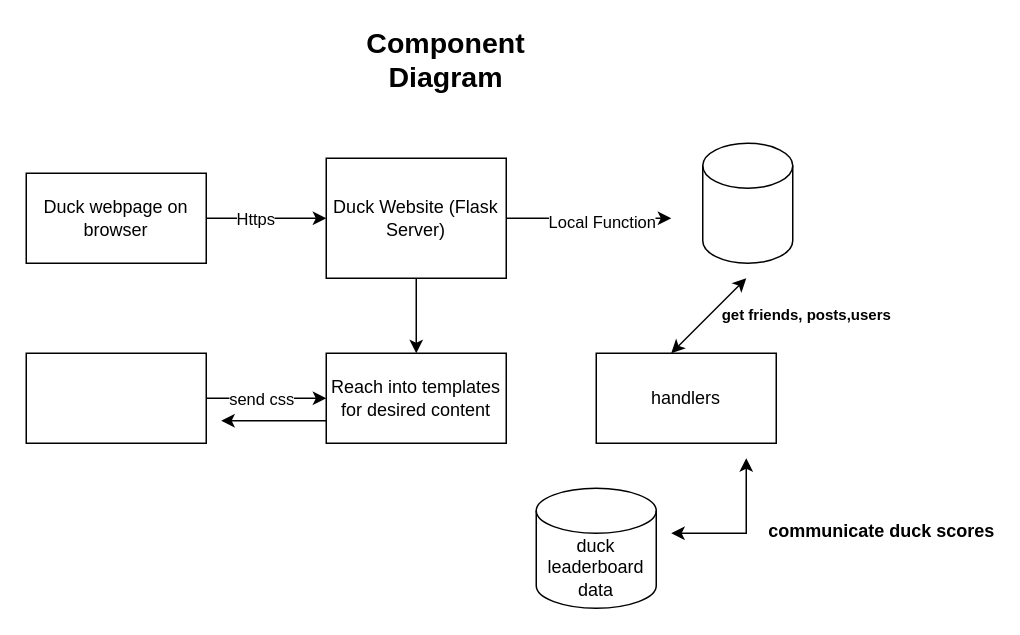
Some shapes in this 1020 by 635 pixel diagram are drawn without their labels. Each missing label, with the centre of its shape:
static: point (115, 397)
tiny DB: point (747, 202)
